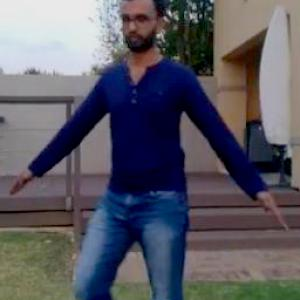land: (29, 0, 300, 299)
